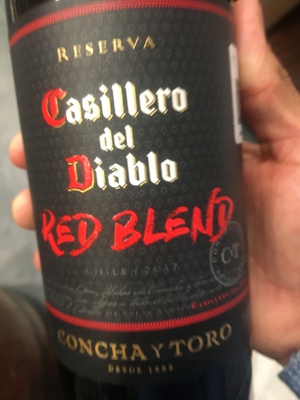casillero del diablo red blend: (8, 6, 255, 400)
